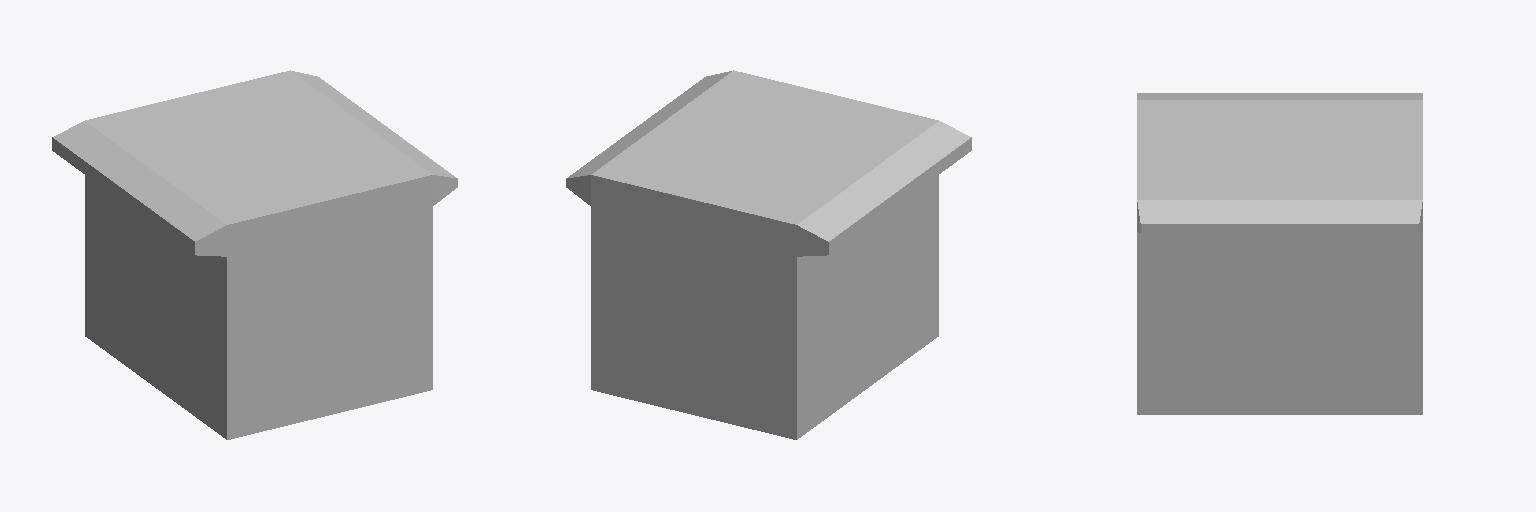
The model's file is Platform13.obj.
3 renders of one model, left to right at view 1: azimuth 30°, elevation 25°; view 2: azimuth 150°, elevation 25°; view 3: azimuth 270°, elevation 25°, orthographic.
Parts seen in each view (by area): view 1: pCube28; view 2: pCube28; view 3: pCube28.
Boxes of the visible parts, box(x1,y1,x2,y2) form: pCube28: box(52, 70, 457, 439); pCube28: box(566, 70, 971, 439); pCube28: box(1137, 93, 1422, 414).
Bounding box in the file's own units: 4.11 × 3.2 × 3.85.